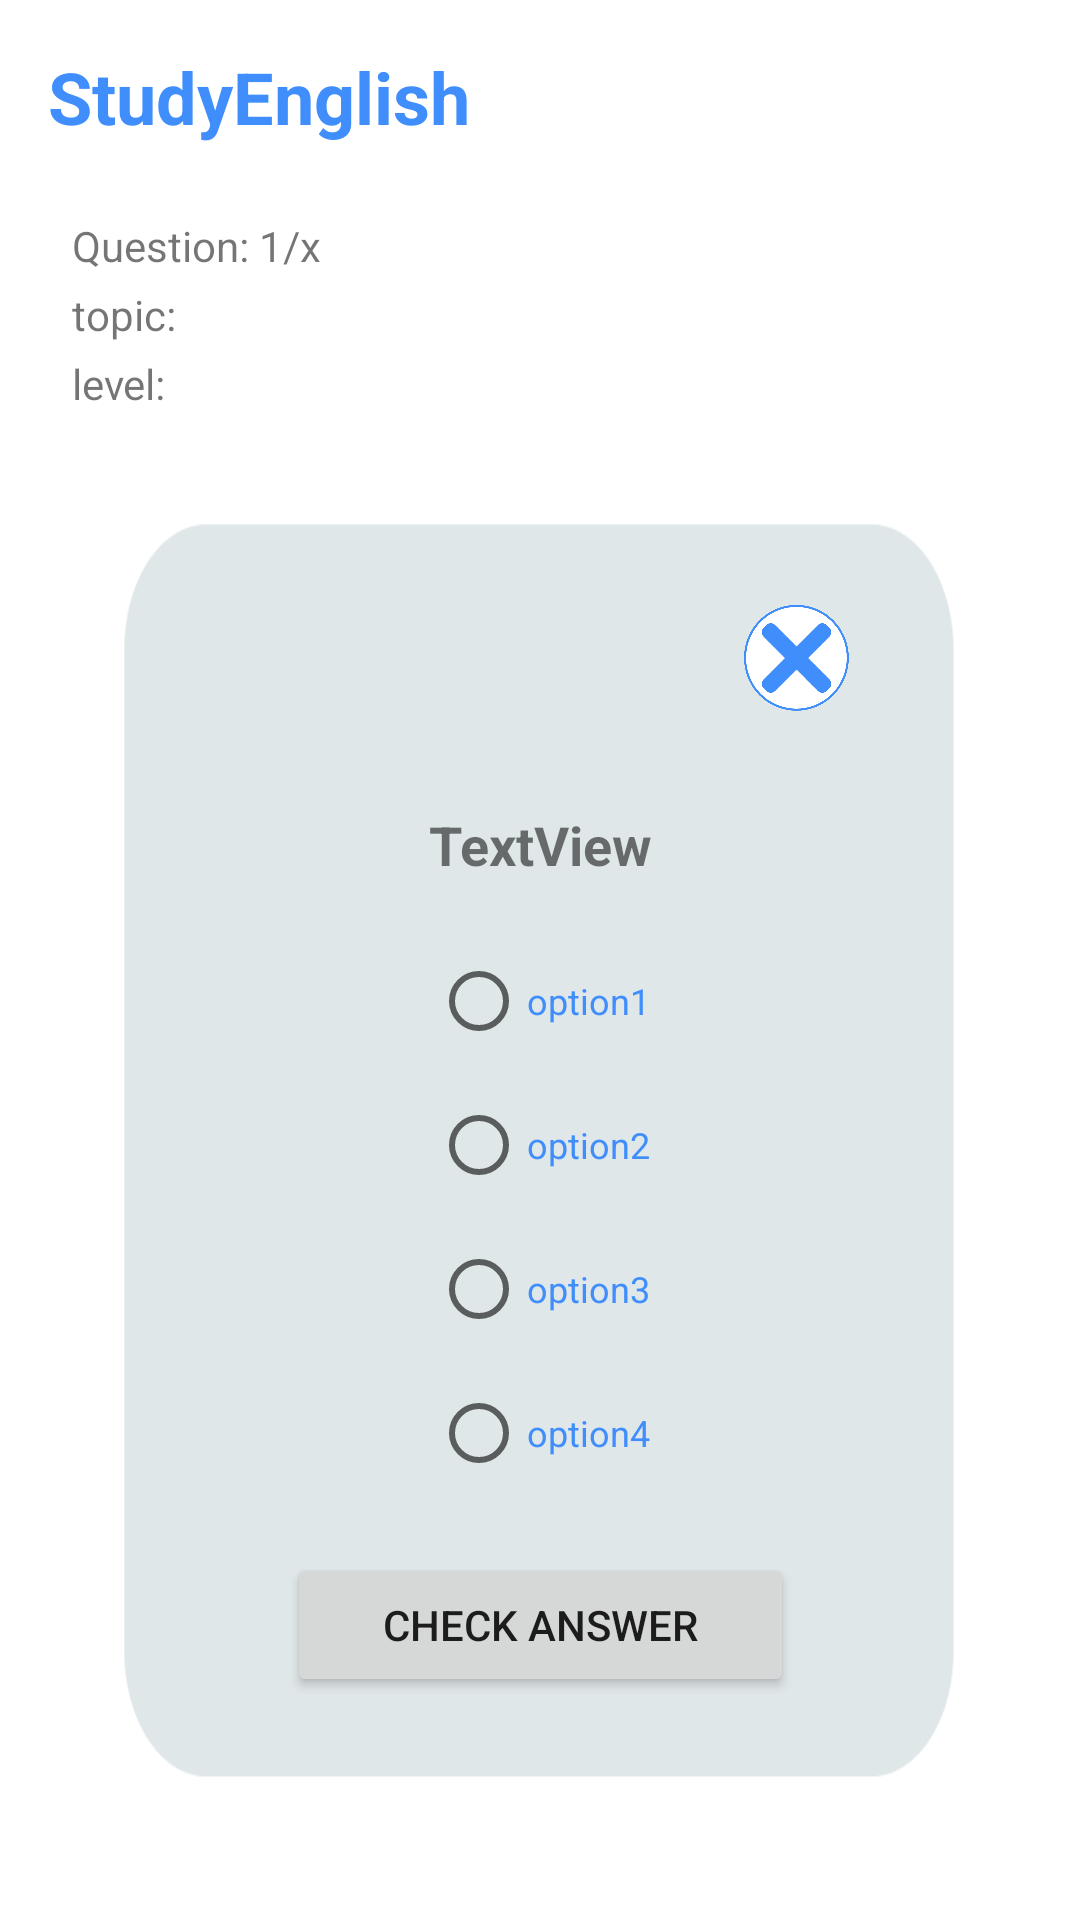

Screen size 1080x1920. Icon name, then its center in pixels as [x,y]:
close: [796,658]
